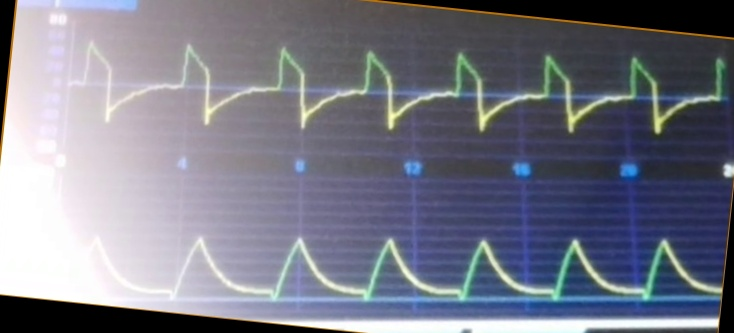Flow: (72, 39, 725, 148)
Leakage Volume: (72, 229, 715, 306)
